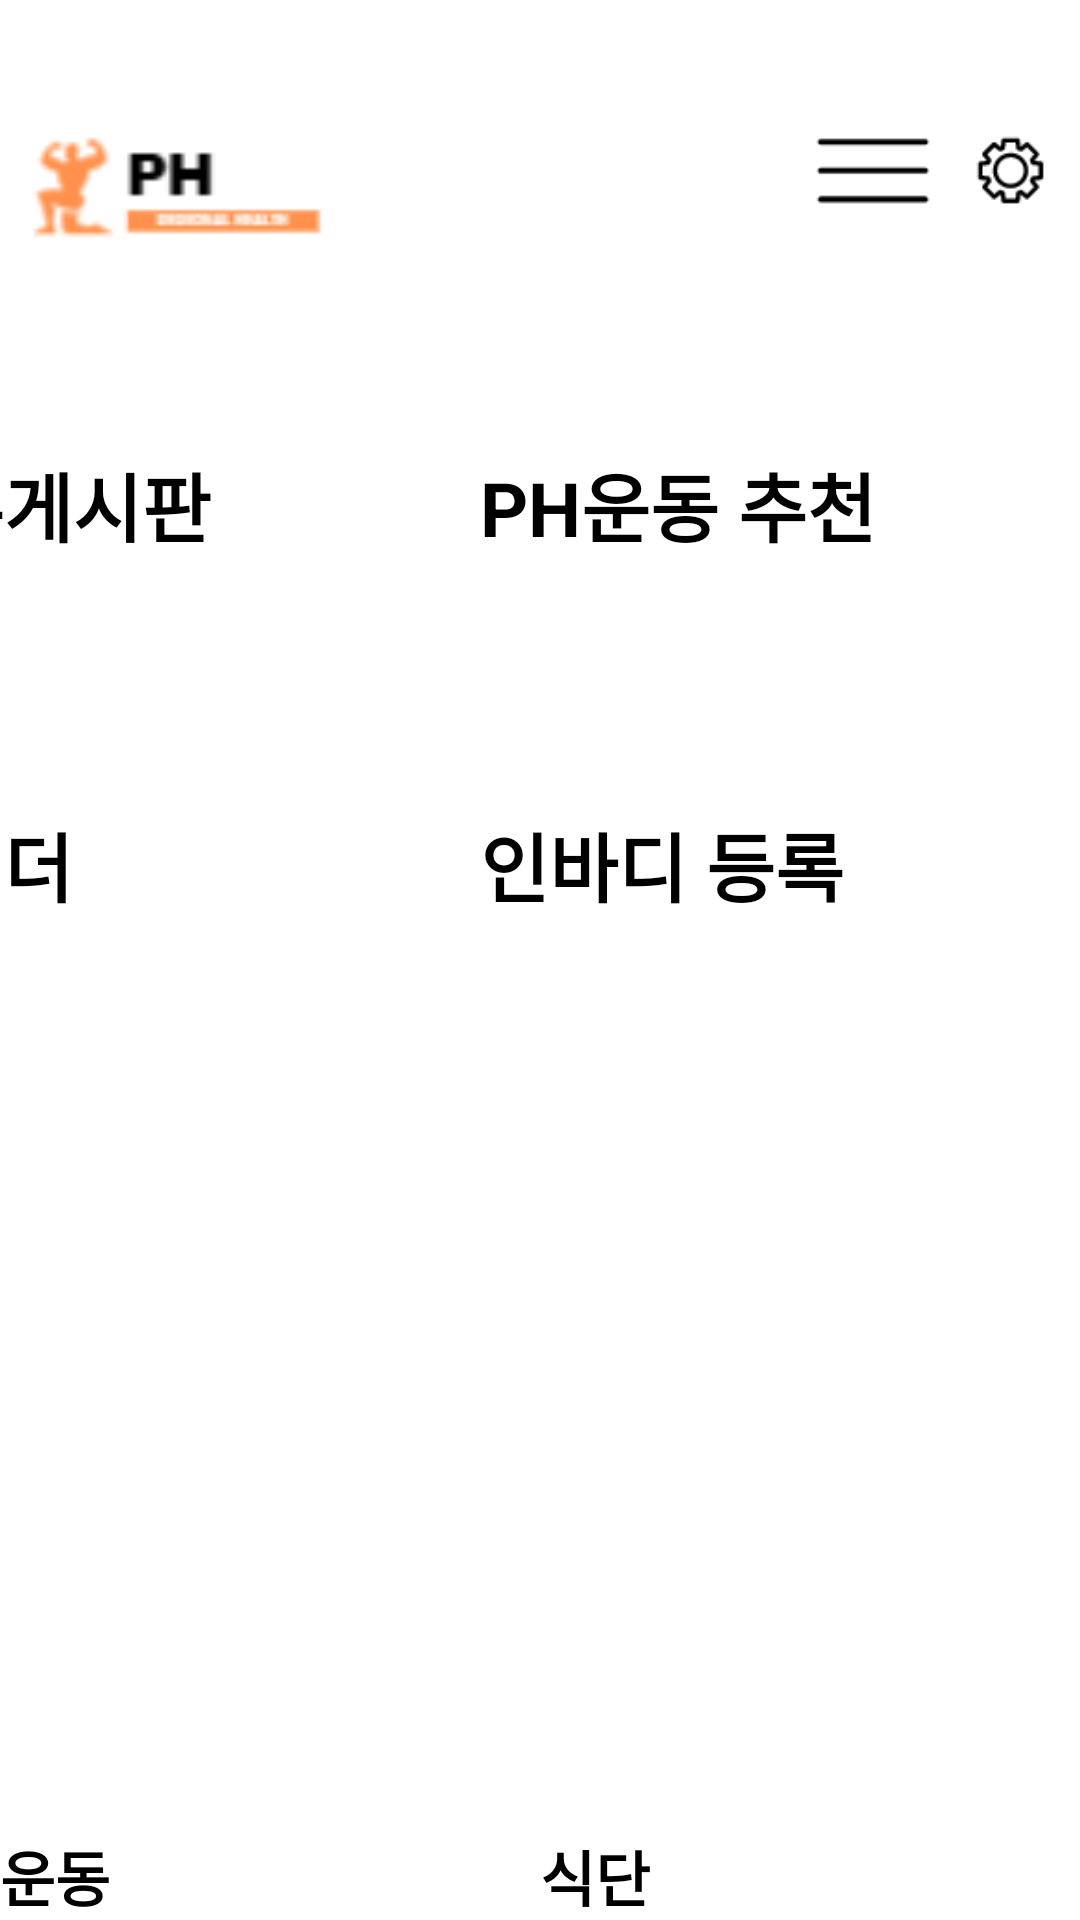

Icon bounding boxes for this 1080 × 1920 phone screenshot, format rect(x1, y1, x2, y2):
menu: rect(816, 138, 930, 204)
settings: rect(977, 137, 1044, 204)
